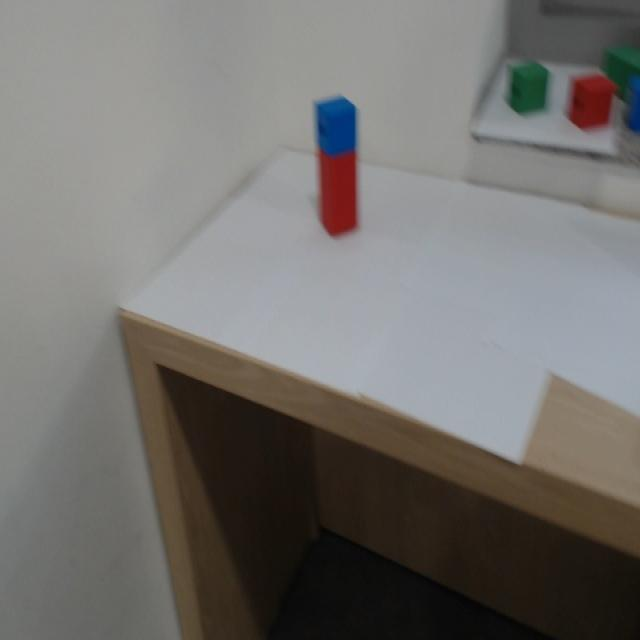cube: (304, 82, 368, 161)
